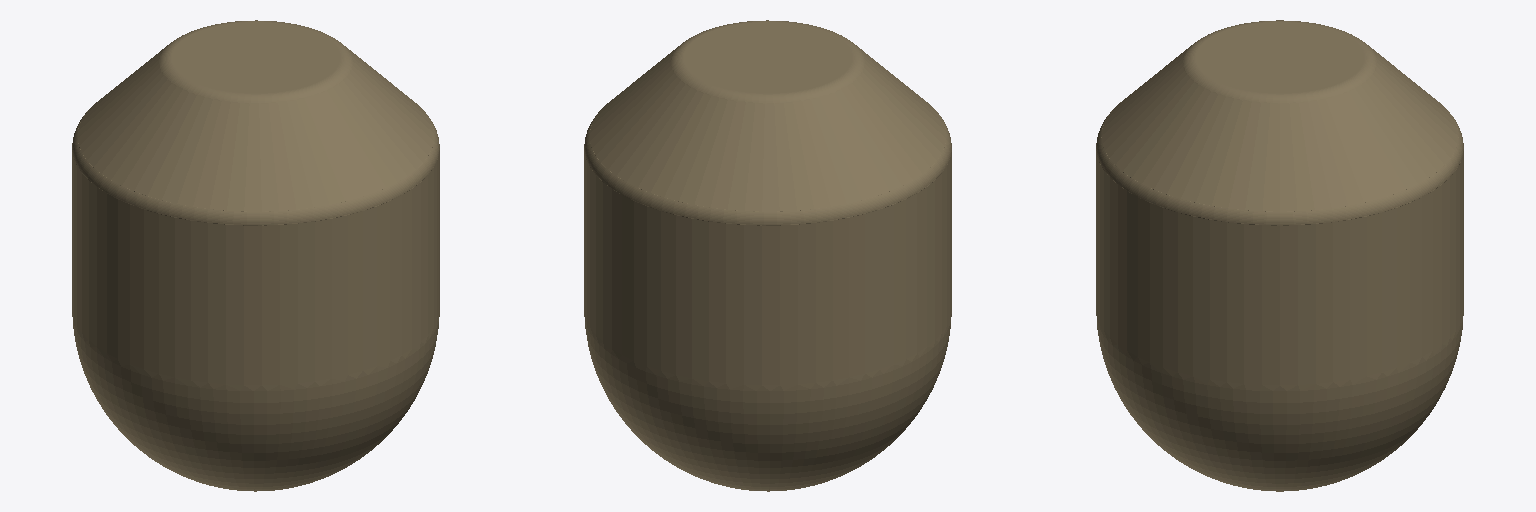
robot.urdf — rounded_bobble:
<?xml version="1.0"?>
<robot name="rounded_bobble">
  <link name="base_link">
    <visual>
      <origin xyz="0 0 0" rpy="0 0 0" />
      <geometry>
        <mesh filename="rounded_bobble.obj"/>      
      </geometry>
      <material name="tan">
        <color rgba="0.55 0.5 0.4 1"/>
      </material>
    </visual>
    <collision>
      <origin xyz="0 0 0" rpy="0 0 0" />
      <geometry>
        <mesh filename="rounded_bobble.obj"/>
      </geometry>
    </collision>
  </link>
</robot>

--- Render facts (derived) ---
The picture shows the robot from 3 angles, left to right: view 1: azimuth 30°, elevation 25°; view 2: azimuth 150°, elevation 25°; view 3: azimuth 270°, elevation 25°; orthographic projection.
Robot: rounded_bobble — 1 links, 0 joints (none); root link base_link; default pose: all joints at 0.
Visible links, largest first — view 1: base_link; view 2: base_link; view 3: base_link.
Link boxes in pixels (<box>): base_link: <box>72,20,439,491</box>; base_link: <box>584,20,951,491</box>; base_link: <box>1096,20,1463,491</box>.
Size in the robot's own frame: 25.4 by 25.4 by 31.75 metres.
Meshes: 1 distinct files referenced, 1 mesh visuals loaded (1 OBJ).
